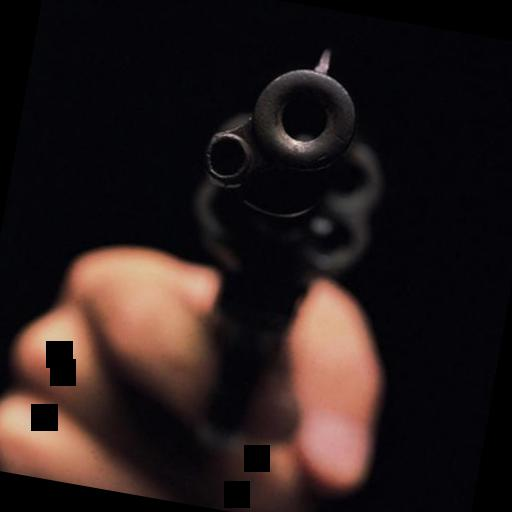Handgun: (144, 26, 416, 456)
